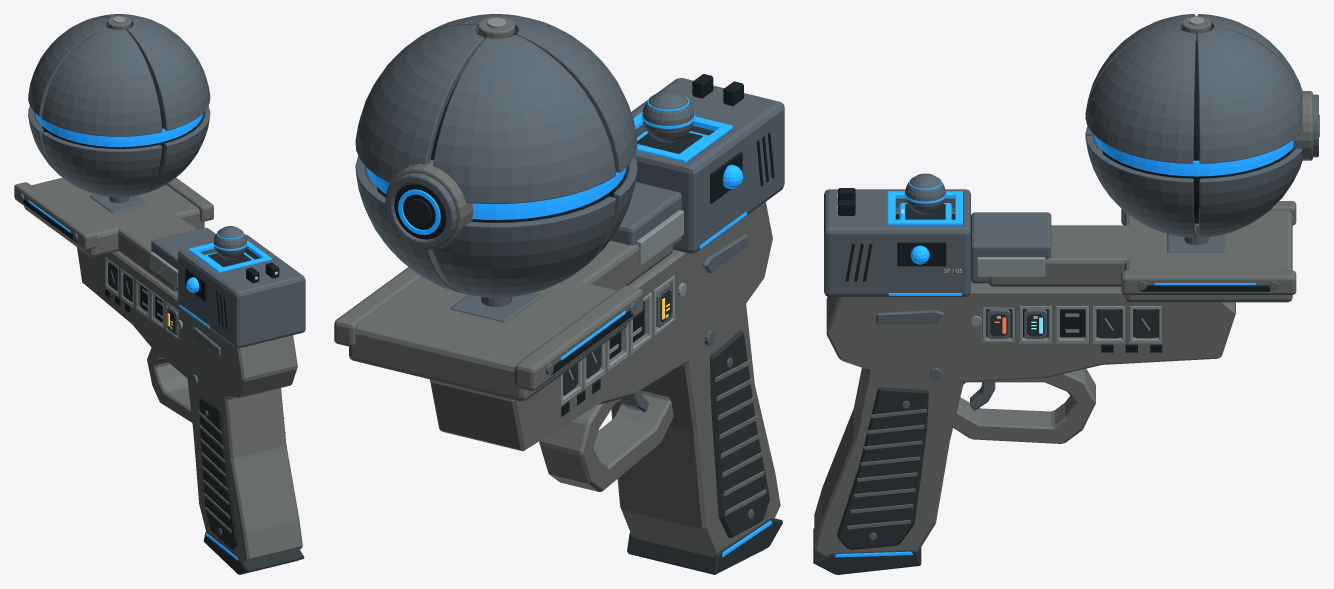
The model's file is SpherePulseCannon.glb.
The picture shows the model from 3 angles, left to right: view 1: azimuth 30°, elevation 25°; view 2: azimuth 150°, elevation 25°; view 3: azimuth 270°, elevation 25°; orthographic projection. The views are drawn at different scales.
Visible parts, largest first — view 1: Frame | continuous receiver and swept grip, Sphere_Armor_Petal_Upper_02, MultiWeapon | shared rear receiver, Sphere_Armor_Petal_Lower_02, Sphere_Armor_Petal_Upper_03, Sphere_Squared_Cradle_Floor, Grip | contoured panel -1, Sphere_Cradle_Spine, Sphere_Armor_Petal_Upper_01, Frame | open shaped trigger guard, Sphere_Armor_Petal_Lower_03, Sphere_Equatorial_Pulse_Band (+10 smaller); view 2: Frame | continuous receiver and swept grip, Sphere_Armor_Petal_Upper_01, Sphere_Squared_Cradle_Floor, MultiWeapon | shared rear receiver, Sphere_Armor_Petal_Lower_01, Sphere_Armor_Petal_Upper_00, Frame | open shaped trigger guard, Grip | contoured panel -1, Sphere_Cradle_Spine, Sphere_Armor_Petal_Upper_02, Sphere_Cradle_Rail_-1, Grip | fitted heel plate (+19 smaller); view 3: Frame | continuous receiver and swept grip, Sphere_Armor_Petal_Upper_03, Sphere_Armor_Petal_Upper_00, MultiWeapon | shared rear receiver, Grip | contoured panel 1, Sphere_Cradle_Spine, Frame | open shaped trigger guard, Sphere_Squared_Cradle_Floor, Sphere_Armor_Petal_Lower_03, Sphere_Armor_Petal_Lower_00, Sphere_Rear_Attachment, Sphere_Cradle_Rail_1 (+16 smaller).
Part boxes in pixels (x1,y1,x2,y2): Frame | continuous receiver and swept grip: (77, 247, 302, 563); Sphere_Armor_Petal_Upper_02: (42, 27, 162, 136); MultiWeapon | shared rear receiver: (178, 234, 305, 348); Sphere_Armor_Petal_Lower_02: (42, 132, 162, 197); Sphere_Armor_Petal_Upper_03: (127, 21, 210, 130); Sphere_Squared_Cradle_Floor: (24, 177, 204, 256); Grip | contoured panel -1: (199, 396, 238, 549); Sphere_Cradle_Spine: (118, 193, 196, 291); Sphere_Armor_Petal_Upper_01: (28, 16, 108, 116); Frame | open shaped trigger guard: (147, 348, 192, 422); Sphere_Armor_Petal_Lower_03: (142, 105, 210, 194); Sphere_Equatorial_Pulse_Band: (35, 113, 203, 147); Frame | continuous receiver and swept grip: (430, 202, 780, 557); Sphere_Armor_Petal_Upper_01: (433, 34, 615, 203); Sphere_Squared_Cradle_Floor: (349, 278, 628, 401); MultiWeapon | shared rear receiver: (631, 78, 784, 253); Sphere_Armor_Petal_Lower_01: (434, 196, 615, 297); Sphere_Armor_Petal_Upper_00: (355, 25, 484, 182); Frame | open shaped trigger guard: (539, 390, 673, 491); Grip | contoured panel -1: (710, 330, 769, 538); Sphere_Cradle_Spine: (414, 240, 673, 342); Sphere_Armor_Petal_Upper_02: (512, 18, 637, 172); Sphere_Cradle_Rail_-1: (514, 285, 643, 390); Grip | fitted heel plate: (627, 518, 782, 574); Frame | continuous receiver and swept grip: (814, 281, 1235, 555); Sphere_Armor_Petal_Upper_03: (1085, 26, 1195, 163); Sphere_Armor_Petal_Upper_00: (1197, 26, 1302, 163); MultiWeapon | shared rear receiver: (824, 189, 970, 296); Grip | contoured panel 1: (837, 387, 928, 549); Sphere_Cradle_Spine: (989, 225, 1260, 286); Frame | open shaped trigger guard: (953, 368, 1095, 443); Sphere_Squared_Cradle_Floor: (1125, 211, 1292, 302); Sphere_Armor_Petal_Lower_03: (1085, 136, 1195, 237); Sphere_Armor_Petal_Lower_00: (1197, 148, 1302, 237); Sphere_Rear_Attachment: (971, 212, 1051, 283); Sphere_Cradle_Rail_1: (1121, 270, 1296, 294).
Bounding box in the file's own units: 0.1272 × 0.3396 × 0.2893.
